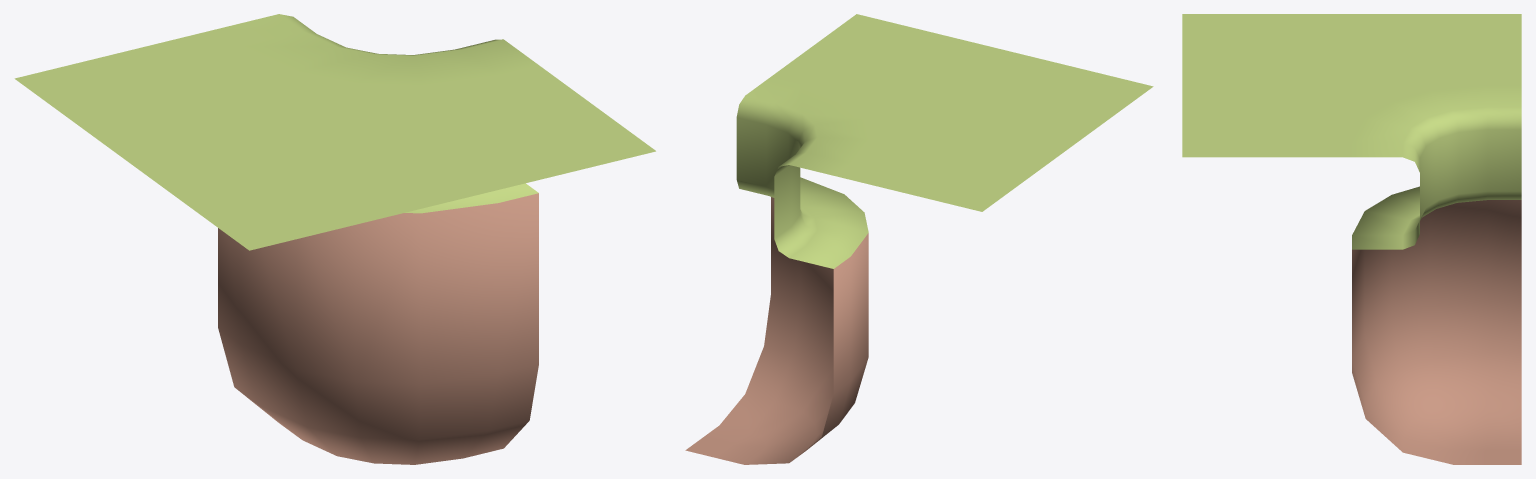
Rendered from LandCornerIn.glb.
3 views of the same model, side by side, from view 1: azimuth 30°, elevation 25°; view 2: azimuth 150°, elevation 25°; view 3: azimuth 270°, elevation 25° (orthographic). The views are drawn at different scales.
Visible parts, largest first — view 1: Land.Corner.In; view 2: Land.Corner.In; view 3: Land.Corner.In.
Boxes of the visible parts, <box> form: Land.Corner.In: <box>14,14,655,464</box>; Land.Corner.In: <box>685,14,1153,464</box>; Land.Corner.In: <box>1182,14,1521,464</box>.
Size of the model in its own units: 2 by 2 by 2.
